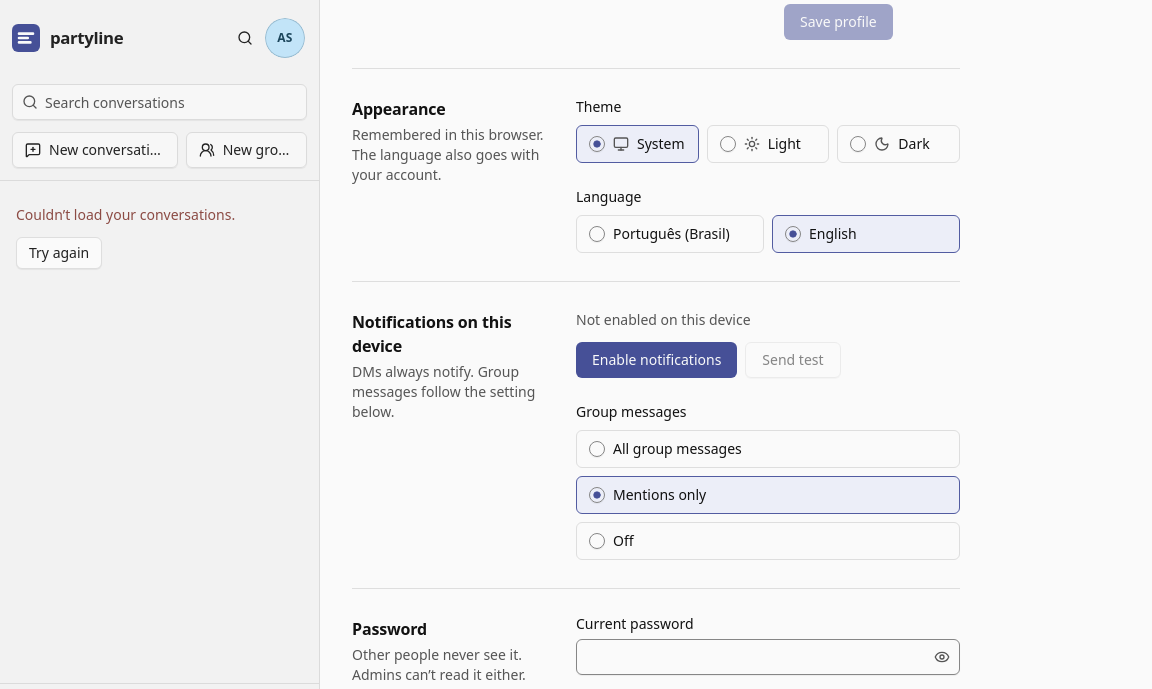
Test: notifications on this device (PUSH-18) › says the browser refused the subscription and why
(page scrolled)
Click the button "Enable notifications".
click(657, 360)  # box top-left (576, 342), bottom-right (737, 378)
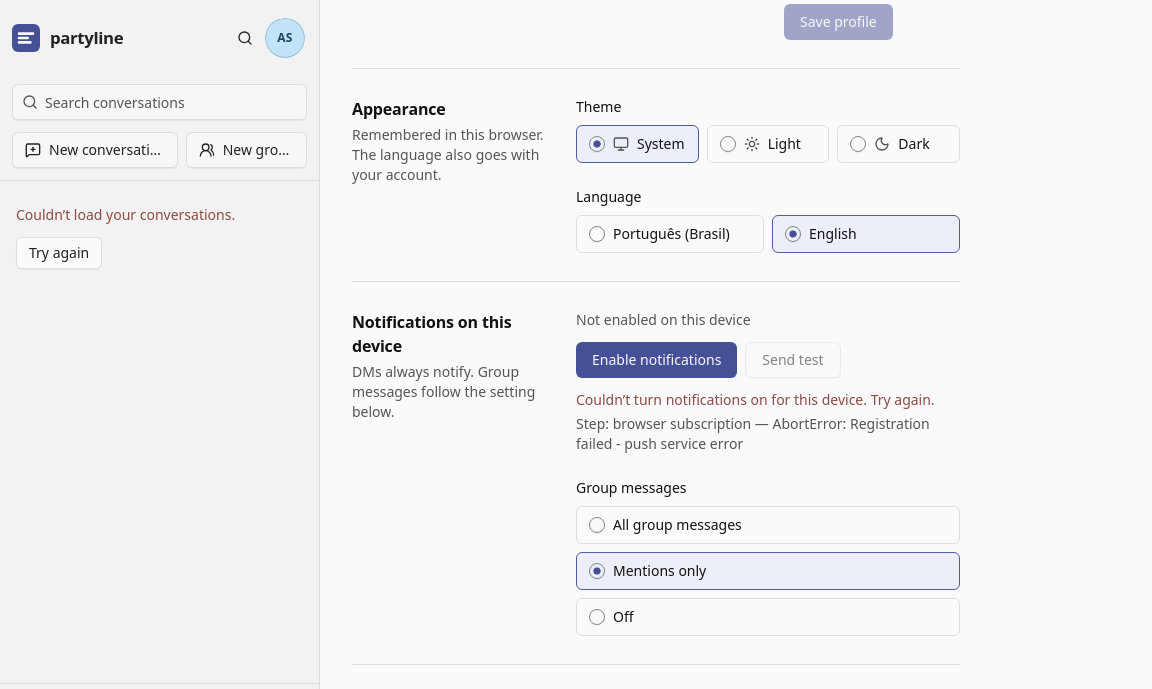
Now the text "Couldn’t turn notifications on for this device. Try again." is shown, box top-left (576, 390), bottom-right (960, 410)
Now the text "Step: browser subscription — AbortError: Registration failed - push service error" is shown, box top-left (576, 414), bottom-right (930, 453)
